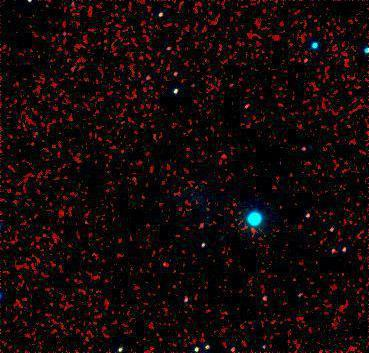star: (212, 136, 242, 166)
